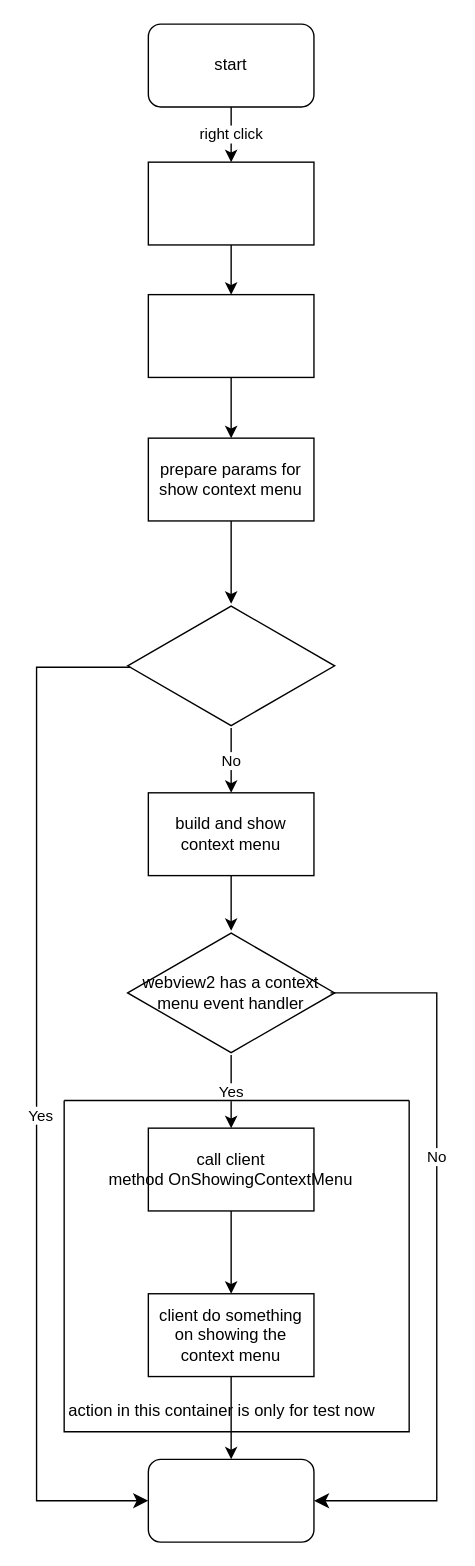
This 475x1566 diagram has some shape labels left out. Here are the shapes that lost their labels. From the top down, the centre of each, then its label:
[230,203]: handle mouse event in HWNDMessageHandler
[230,335]: dispatch to RenderFrameHostImpl
[230,665]: the delegate ( EmbeddedBrowser ) handled the context menu successfully
[230,1500]: end
